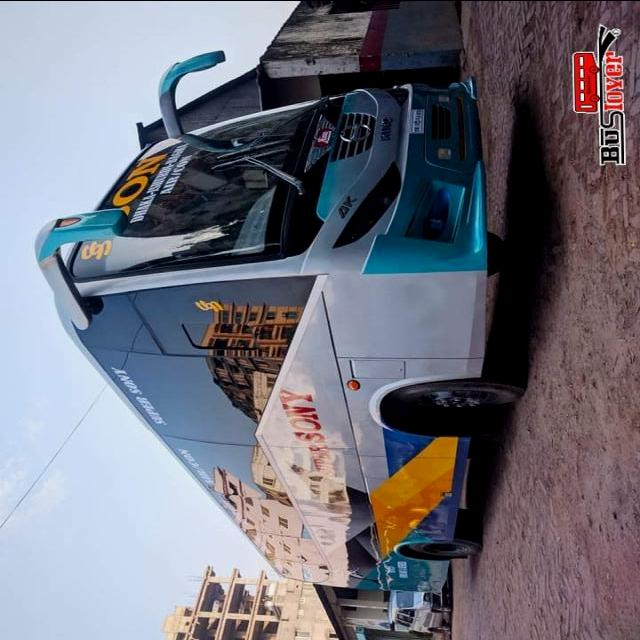bus: (31, 49, 533, 592)
